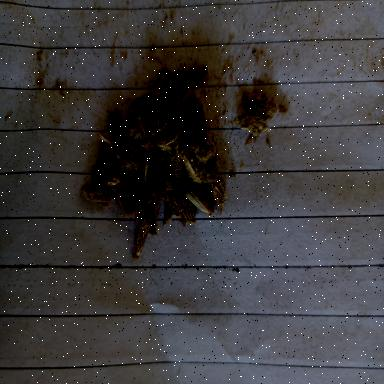pbw: (106, 110, 127, 162), (206, 157, 224, 215), (122, 193, 158, 220), (132, 102, 154, 146), (186, 185, 216, 215), (132, 220, 154, 260), (168, 88, 194, 120), (181, 140, 218, 162), (95, 164, 115, 204), (178, 57, 206, 83), (138, 154, 156, 193), (244, 94, 274, 117), (164, 187, 180, 230), (182, 154, 204, 184), (110, 181, 130, 211), (118, 140, 135, 174), (240, 116, 272, 134), (100, 154, 120, 182), (152, 80, 182, 98), (163, 150, 177, 188), (171, 142, 184, 182), (158, 132, 178, 156), (103, 172, 131, 188), (84, 188, 106, 208), (152, 118, 174, 138), (158, 69, 170, 93)
